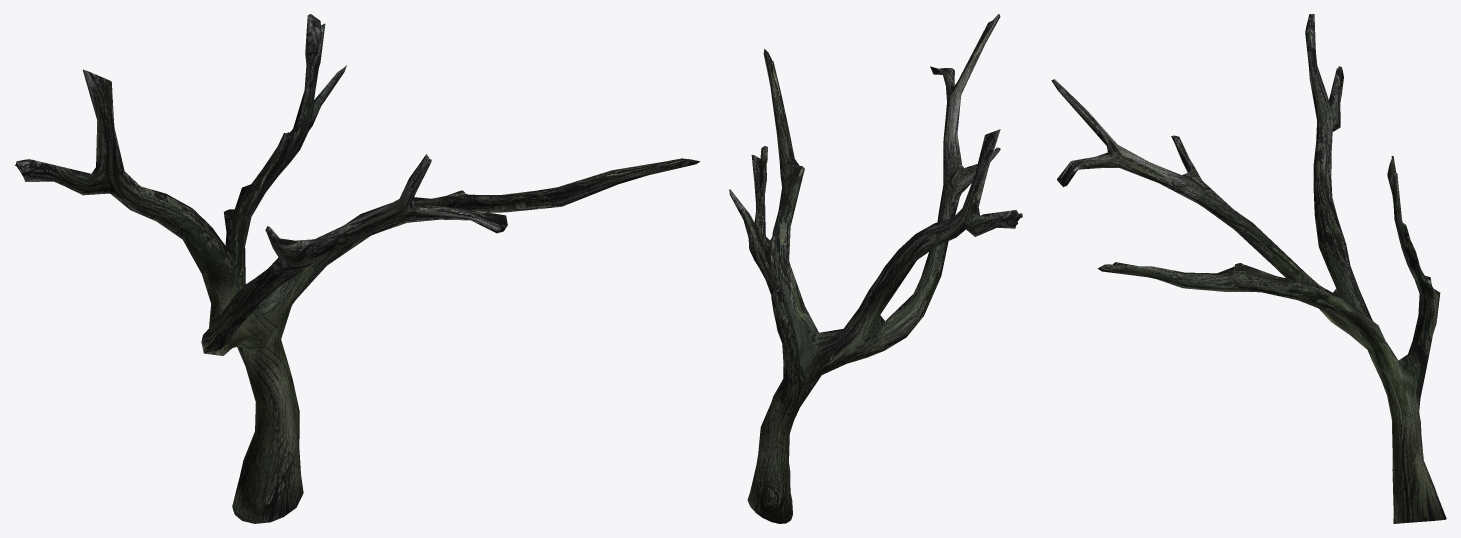
The model's file is Mud_Tree_004.fbx.
3 renders of one model, left to right at view 1: azimuth 30°, elevation 25°; view 2: azimuth 150°, elevation 25°; view 3: azimuth 270°, elevation 25°, orthographic. The views are drawn at different scales.
Visible parts, largest first — view 1: Mud_Tree_004_LOD0; view 2: Mud_Tree_004_LOD0; view 3: Mud_Tree_004_LOD0.
Part boxes in pixels (bbox=[...]): Mud_Tree_004_LOD0: bbox=[15, 14, 700, 523]; Mud_Tree_004_LOD0: bbox=[729, 14, 1022, 523]; Mud_Tree_004_LOD0: bbox=[1051, 14, 1446, 523].
Size of what is drawn, in the model's own units: 1168 by 1183 by 1002.
Materials: 1 (1 with a texture image).
